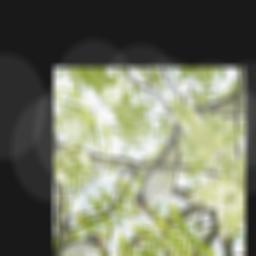Cuckoo: (110, 119, 216, 221)
